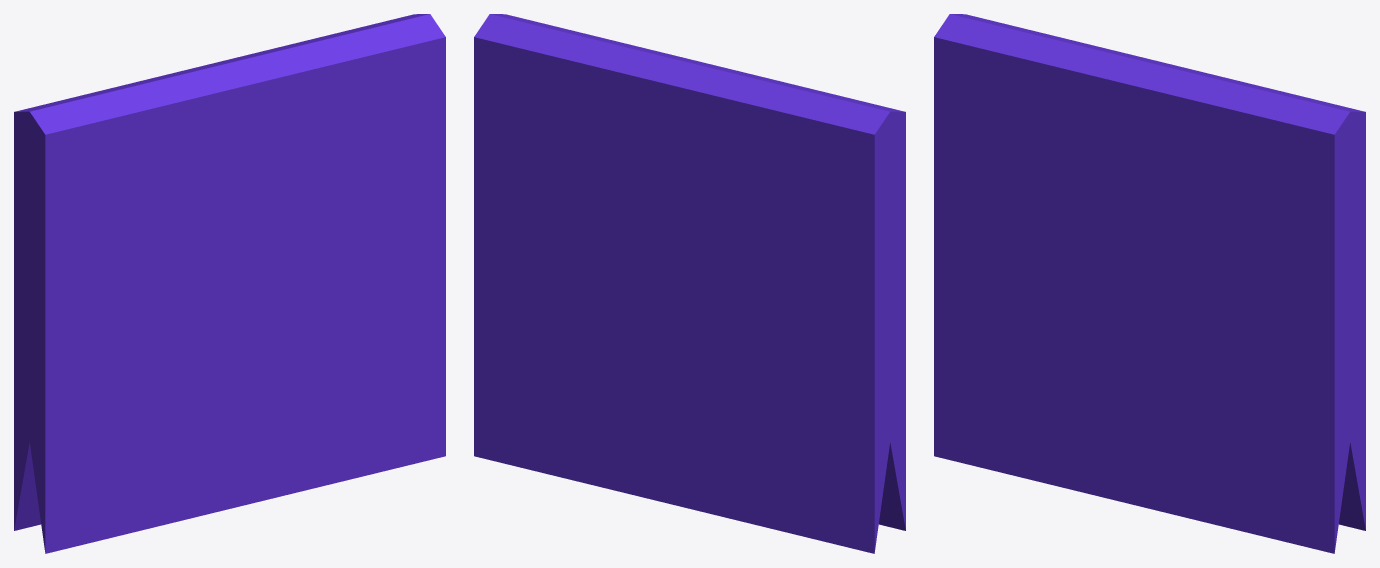
The model's file is 2towel.fbx.
The picture shows the model from 3 angles, left to right: view 1: azimuth 30°, elevation 25°; view 2: azimuth 150°, elevation 25°; view 3: azimuth 330°, elevation 25°; orthographic projection.
Parts seen in each view (by area): view 1: 2towel; view 2: 2towel; view 3: 2towel.
Part boxes in pixels (box(x1,y1,x2,y2)): 2towel: box(14, 14, 445, 553); 2towel: box(474, 14, 905, 553); 2towel: box(934, 14, 1365, 553).
Size of the model in its own units: 25.81 by 26.53 by 3.49.
